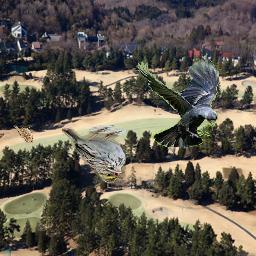Crow: (137, 59, 220, 148)
Sparrow: (62, 125, 126, 185), (13, 125, 33, 143)
